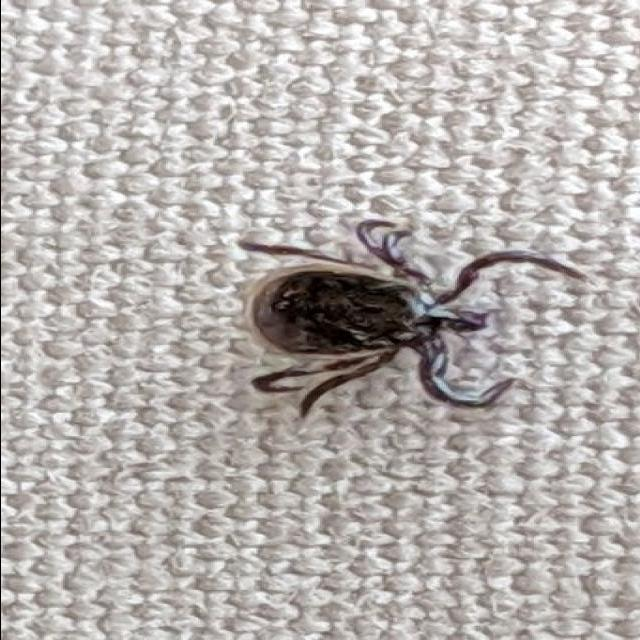Ixodes Ricinus-M: (231, 217, 595, 418)
